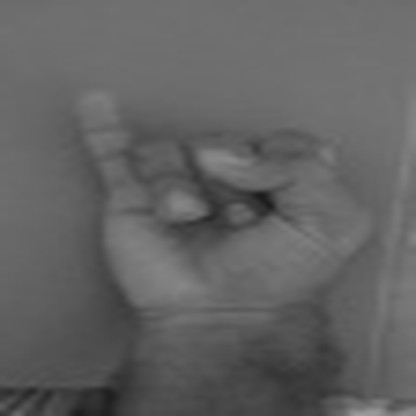i: (61, 80, 362, 311)
